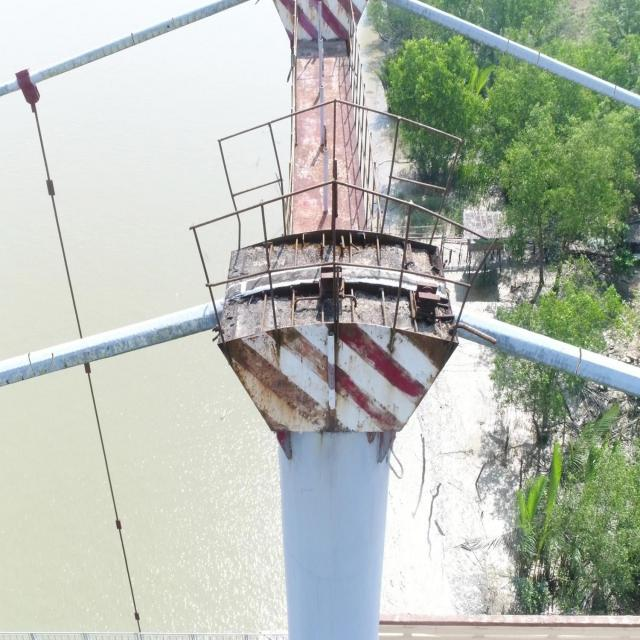crack: (575, 347, 583, 376), (28, 353, 35, 377), (50, 352, 55, 372), (612, 84, 617, 99), (131, 32, 136, 46), (506, 38, 510, 54), (536, 51, 540, 66), (172, 18, 176, 28)
